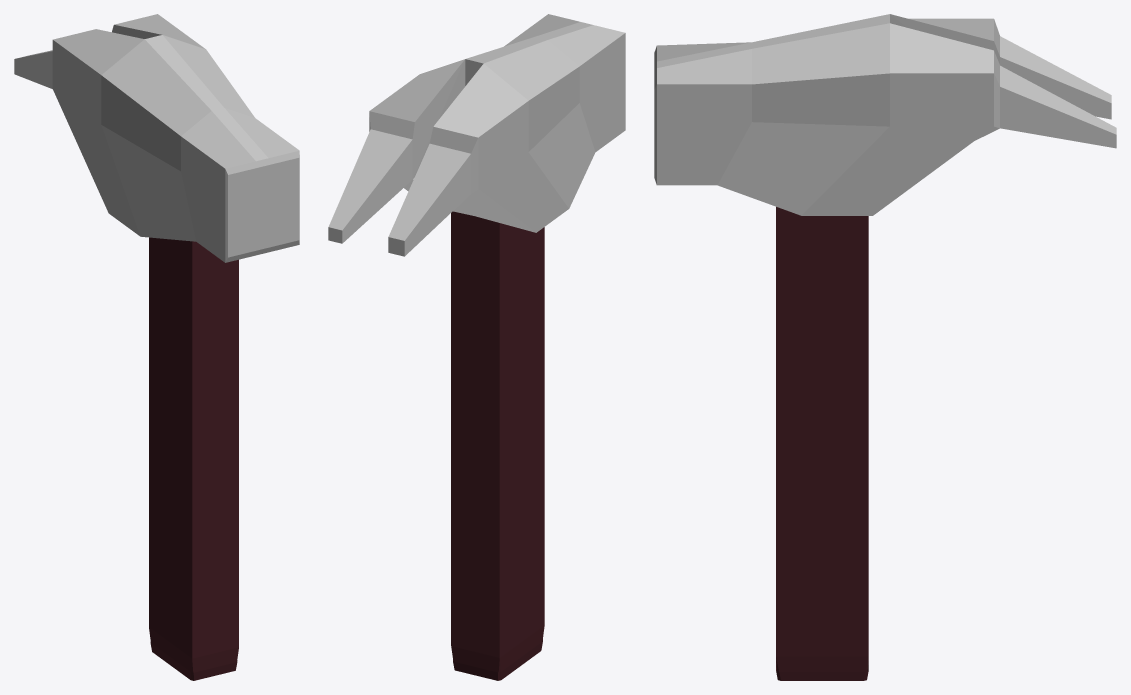
File: hammer.fbx
3 renders of one model, left to right at view 1: azimuth 30°, elevation 25°; view 2: azimuth 150°, elevation 25°; view 3: azimuth 270°, elevation 25°, orthographic. The views are drawn at different scales.
Parts seen in each view (by area): view 1: Cube; view 2: Cube; view 3: Cube.
Boxes of the visible parts, <box> form: Cube: <box>14,14,299,680</box>; Cube: <box>328,14,625,680</box>; Cube: <box>654,14,1116,680</box>.
Size of the model in its own units: 50.68 by 278 by 180.
